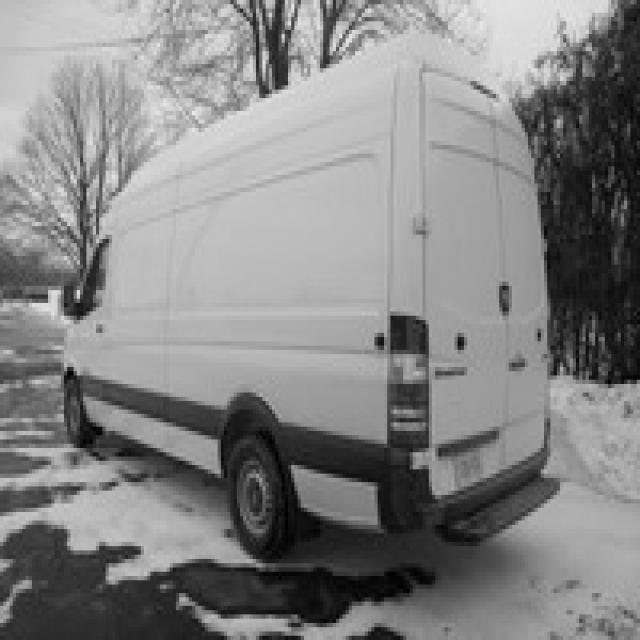car: (58, 30, 554, 559)
